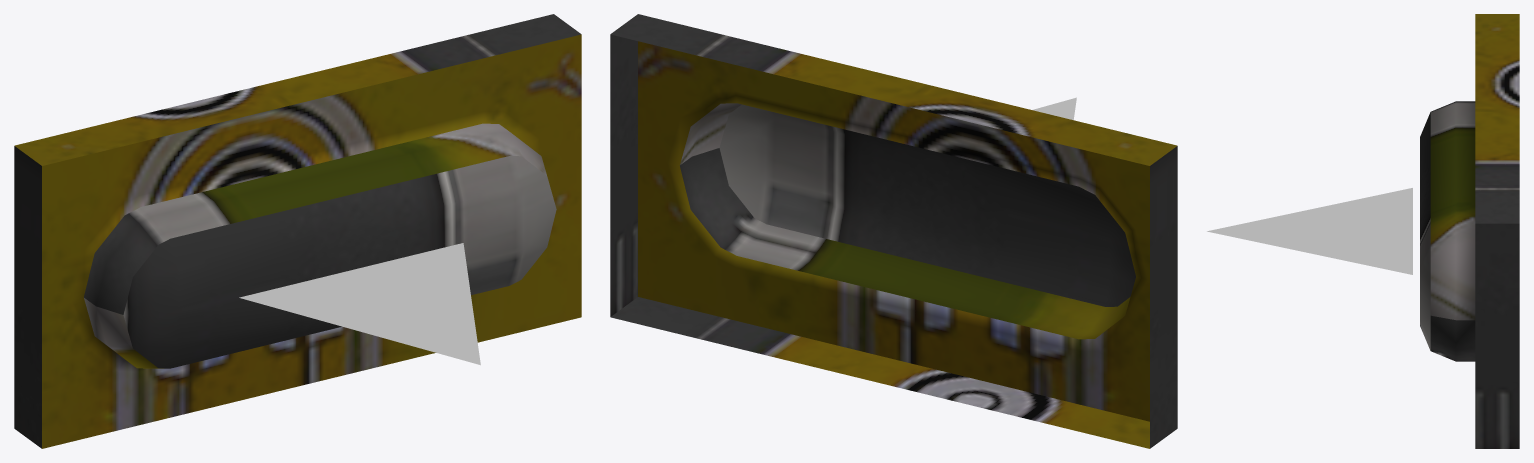
File: fluo-wall-small-24u.obj
3 views of the same model, side by side, from view 1: azimuth 30°, elevation 25°; view 2: azimuth 150°, elevation 25°; view 3: azimuth 270°, elevation 25° (orthographic). The views are drawn at different scales.
Parts seen in each view (by area): view 1: fluorescent_lights:Cube_082_5_5, pPlane2; view 2: fluorescent_lights:Cube_082_5_5; view 3: fluorescent_lights:Cube_082_5_5, pPlane2.
Part boxes in pixels (bbox=[...]): fluorescent_lights:Cube_082_5_5: bbox=[14, 14, 581, 448]; pPlane2: bbox=[239, 243, 480, 365]; fluorescent_lights:Cube_082_5_5: bbox=[610, 14, 1177, 448]; fluorescent_lights:Cube_082_5_5: bbox=[1420, 14, 1519, 448]; pPlane2: bbox=[1207, 188, 1412, 274].
Size of the model in its own units: 24 by 12.02 by 15.17.
